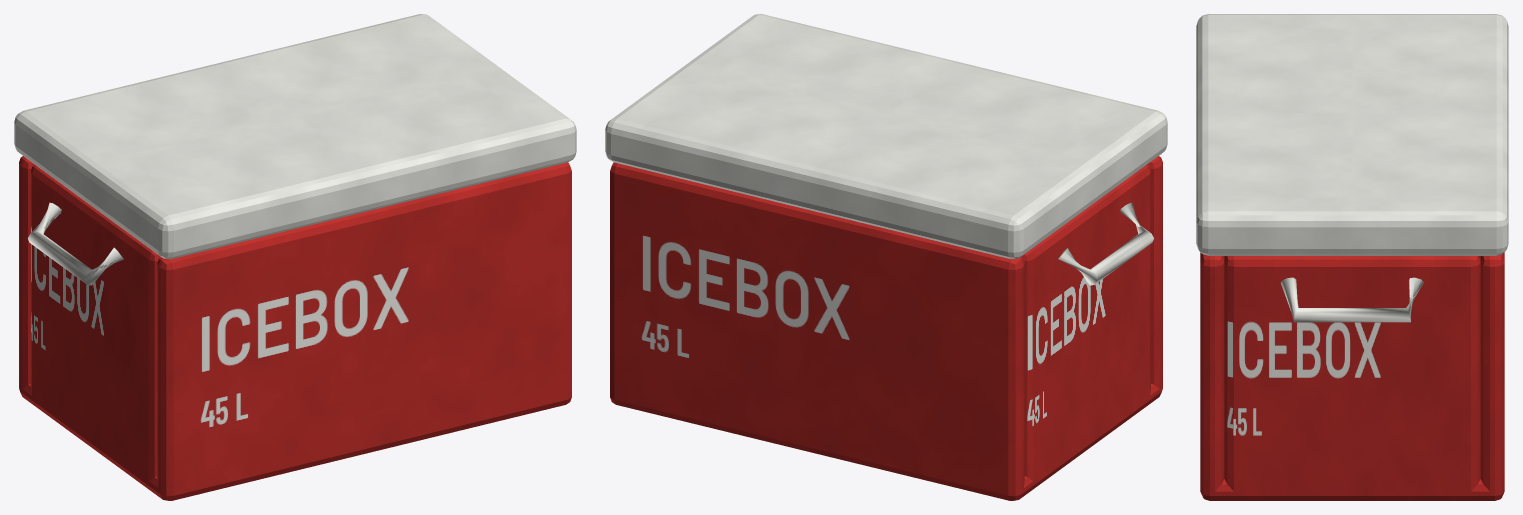
File: lootbox_cooler.glb
The picture shows the model from 3 angles, left to right: view 1: azimuth 30°, elevation 25°; view 2: azimuth 150°, elevation 25°; view 3: azimuth 270°, elevation 25°; orthographic projection.
Visible parts, largest first — view 1: cooler_back, lid, cooler_left, cooler_floor, cooler_front, handle-1; view 2: cooler_front, lid, cooler_left, cooler_floor, cooler_back, handle-1; view 3: lid, cooler_right, cooler_back, cooler_front, cooler_floor, handle1.
Part boxes in pixels (left/top/right/bottom): cooler_back: left=157, top=162, right=571, bottom=500; lid: left=14, top=14, right=576, bottom=259; cooler_left: left=31, top=165, right=160, bottom=481; cooler_floor: left=19, top=383, right=571, bottom=500; cooler_front: left=19, top=156, right=34, bottom=390; handle-1: left=28, top=202, right=123, bottom=285; cooler_front: left=610, top=162, right=1024, bottom=500; lid: left=605, top=14, right=1167, bottom=259; cooler_left: left=1021, top=165, right=1150, bottom=481; cooler_floor: left=610, top=383, right=1162, bottom=500; cooler_back: left=1147, top=156, right=1162, bottom=398; handle-1: left=1058, top=202, right=1153, bottom=285; lid: left=1196, top=14, right=1508, bottom=255; cooler_right: left=1224, top=256, right=1480, bottom=494; cooler_back: left=1200, top=252, right=1224, bottom=500; cooler_front: left=1480, top=252, right=1504, bottom=500; cooler_floor: left=1200, top=479, right=1504, bottom=500; handle1: left=1281, top=277, right=1423, bottom=322.
Bounding box in the file's own units: 0.6995 × 0.4 × 0.39.
2 materials, 2 textured.
